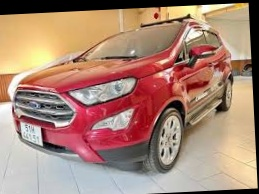Bien-so: (30, 115, 53, 143)
